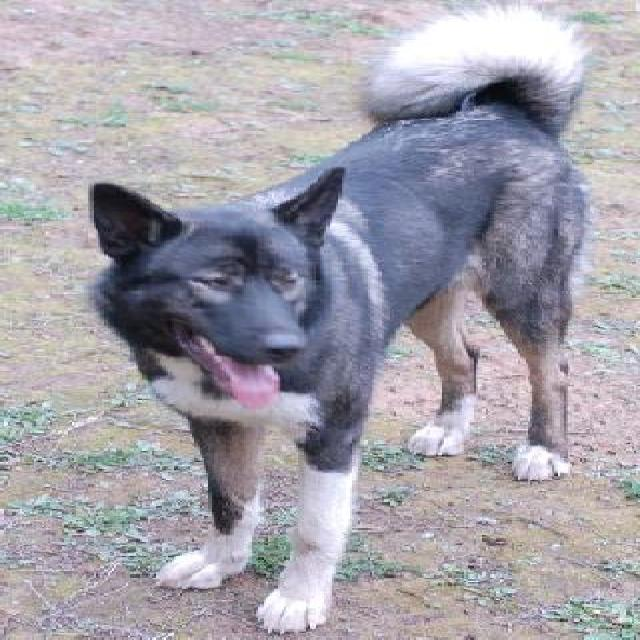Dogs: (86, 1, 596, 633)
